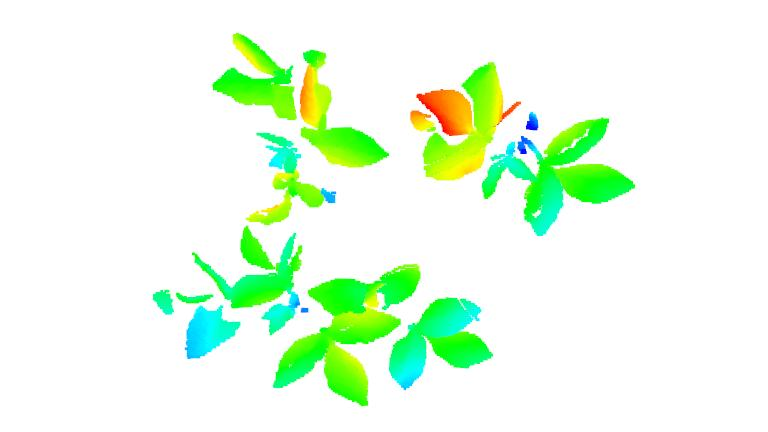mungbean: (149, 230, 400, 409), (409, 61, 635, 238), (213, 34, 396, 228), (307, 262, 493, 389)
